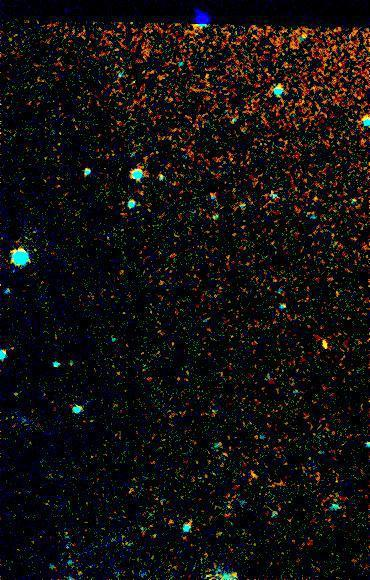star: (308, 329, 338, 359)
